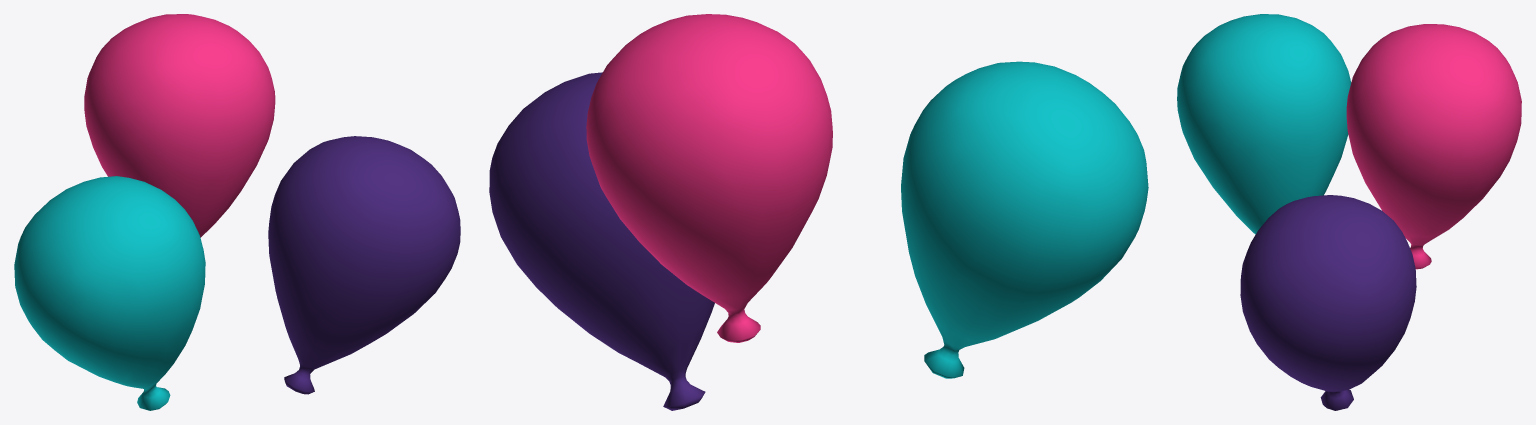
File: Balloon.fbx
3 renders of one model, left to right at view 1: azimuth 30°, elevation 25°; view 2: azimuth 150°, elevation 25°; view 3: azimuth 270°, elevation 25°, orthographic. The views are drawn at different scales.
Parts seen in each view (by area): view 1: Cube.002_Cube.005, Cube.001_Cube.004, Cube_Cube.003; view 2: Cube.001_Cube.004, Cube_Cube.003, Cube.002_Cube.005; view 3: Cube_Cube.003, Cube.001_Cube.004, Cube.002_Cube.005.
Part boxes in pixels (x1,y1,x2,y2): Cube.002_Cube.005: [268, 136, 460, 394]; Cube.001_Cube.004: [14, 176, 205, 410]; Cube_Cube.003: [84, 14, 275, 237]; Cube.001_Cube.004: [901, 61, 1148, 378]; Cube_Cube.003: [586, 14, 832, 342]; Cube.002_Cube.005: [489, 72, 714, 410]; Cube_Cube.003: [1346, 24, 1521, 269]; Cube.001_Cube.004: [1177, 14, 1351, 234]; Cube.002_Cube.005: [1240, 195, 1416, 410].
Bounding box in the file's own units: 315 × 232 × 214.
